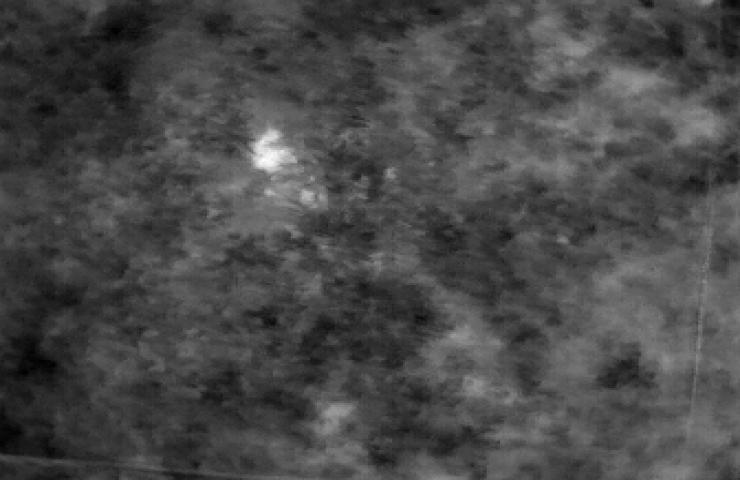landmines: (248, 124, 301, 180)
